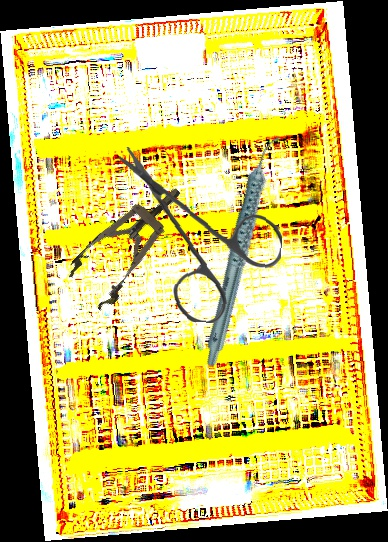Handpiece: (159, 131, 327, 370)
Iris Scissors: (110, 146, 287, 327)
Speculum: (60, 170, 201, 315)
